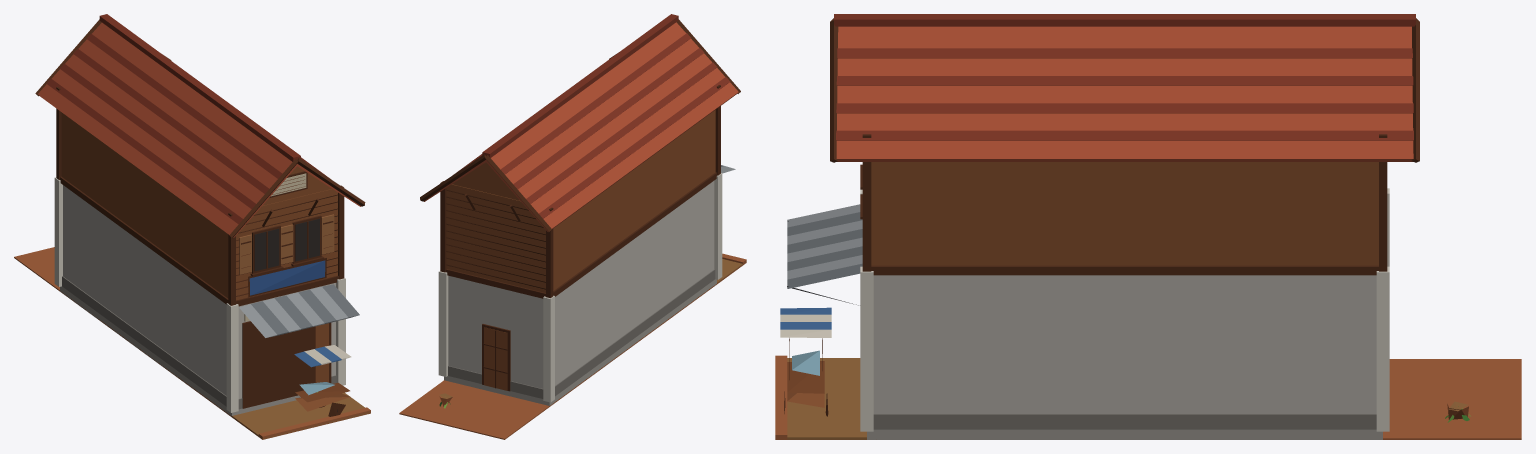
Rendered from bay1_mid.glb.
3 renders of one model, left to right at view 1: azimuth 30°, elevation 25°; view 2: azimuth 150°, elevation 25°; view 3: azimuth 270°, elevation 25°, orthographic. The views are drawn at different scales.
Parts seen in each view (by area): view 1: body, windows; view 2: body; view 3: body.
Boxes of the visible parts, left/top/right/bottom form: body: left=14, top=14, right=370, bottom=439; windows: left=254, top=218, right=319, bottom=271; body: left=399, top=14, right=746, bottom=439; body: left=775, top=14, right=1521, bottom=439.
Size of the model in its own units: 5.02 by 9.2 by 15.9.
